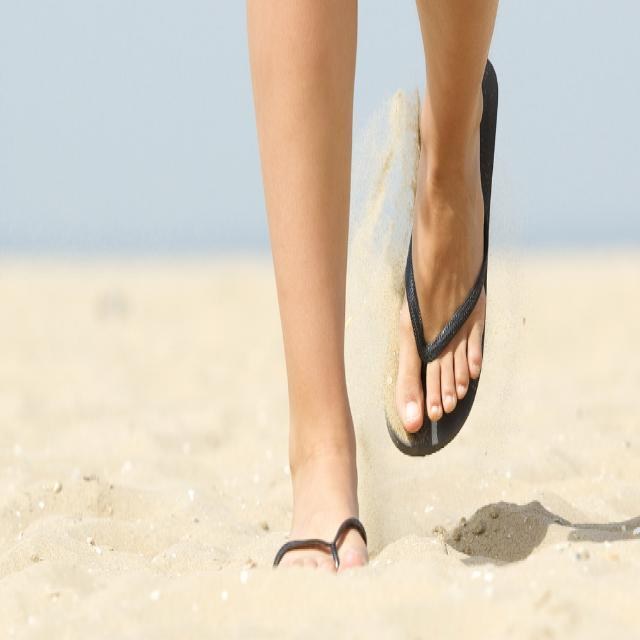No_Shoe: (398, 78, 494, 468)
